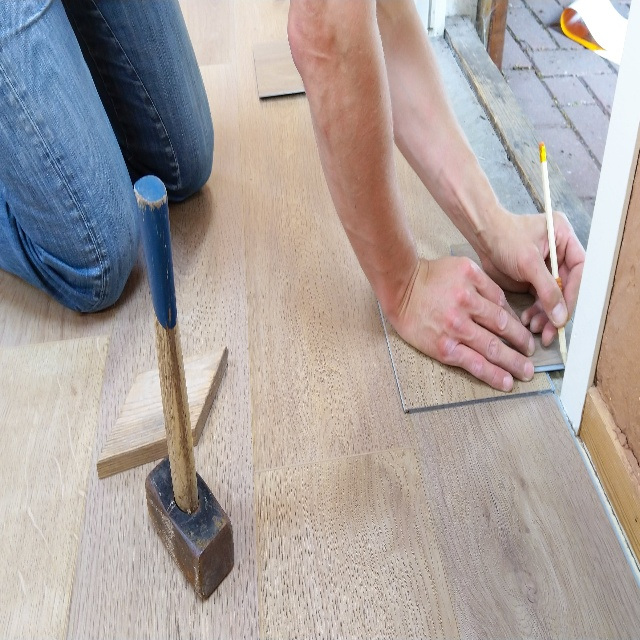Sin_guantes: (398, 255, 536, 391), (477, 202, 587, 349)
